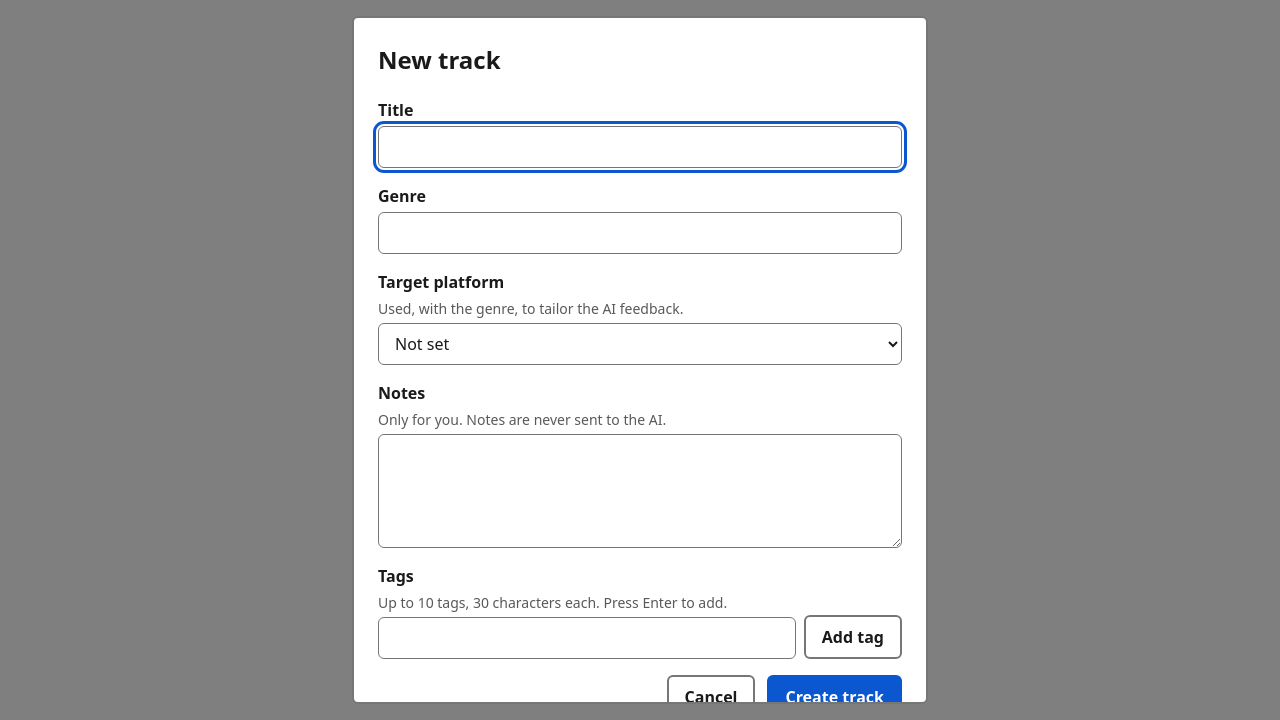
Test case: creating › shows the field errors of a 422 in the summary and on the fields
The image size is (1280, 720).
Type "Night Drive" into the field labelled "Title".
click(640, 147); type("Night Drive")  # box [378,126,902,168]
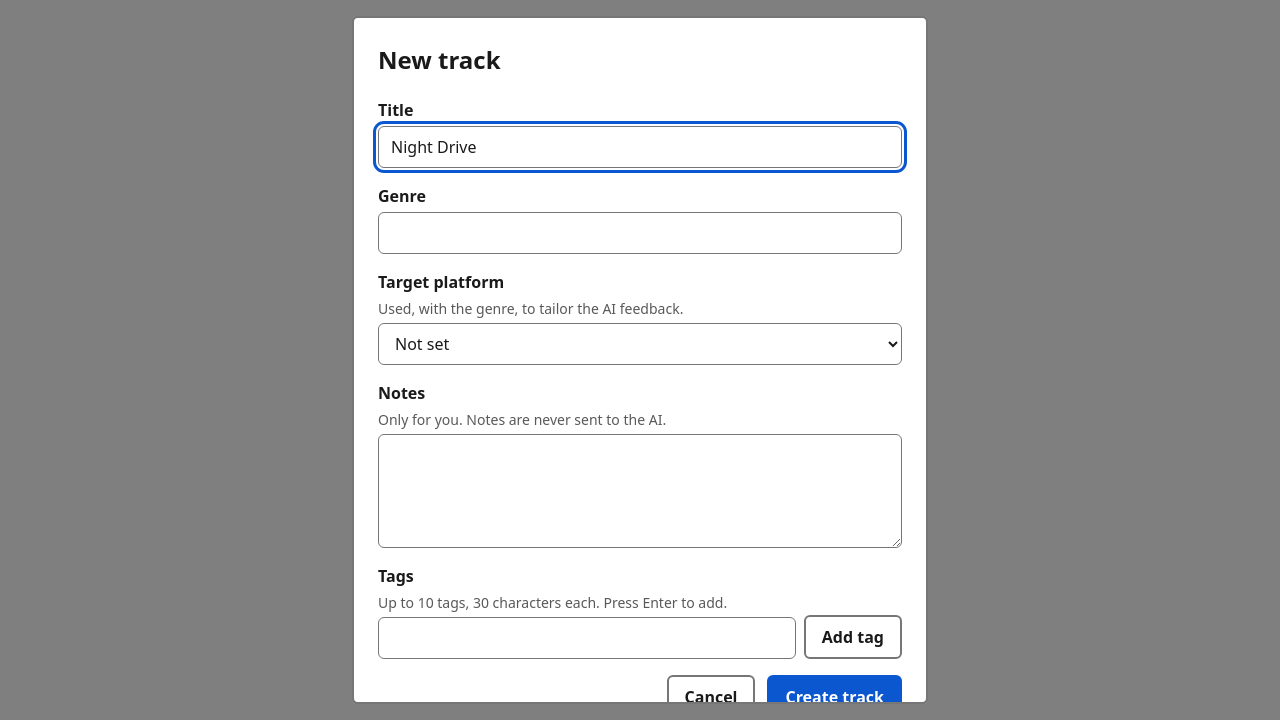
Click the button "Create track".
click(835, 697)  # box [768,675,902,719]
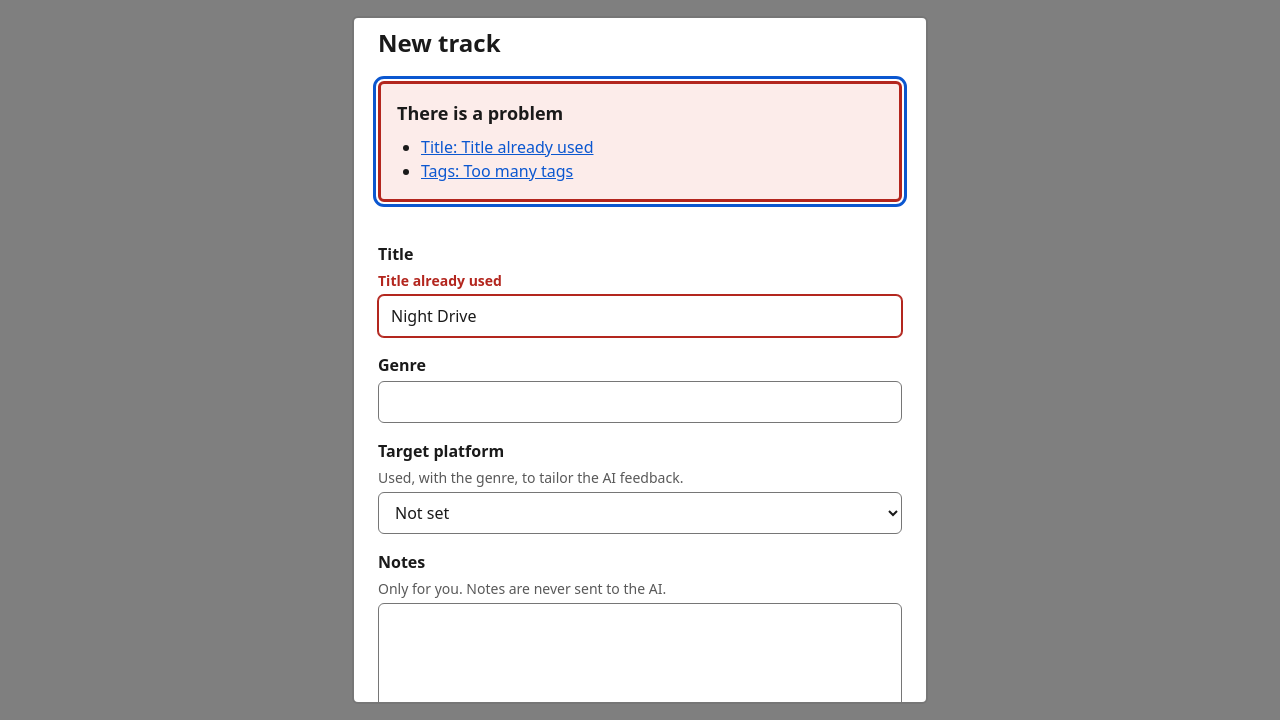
Check: the text "Title already used" is shown, box [377,270,502,290]
